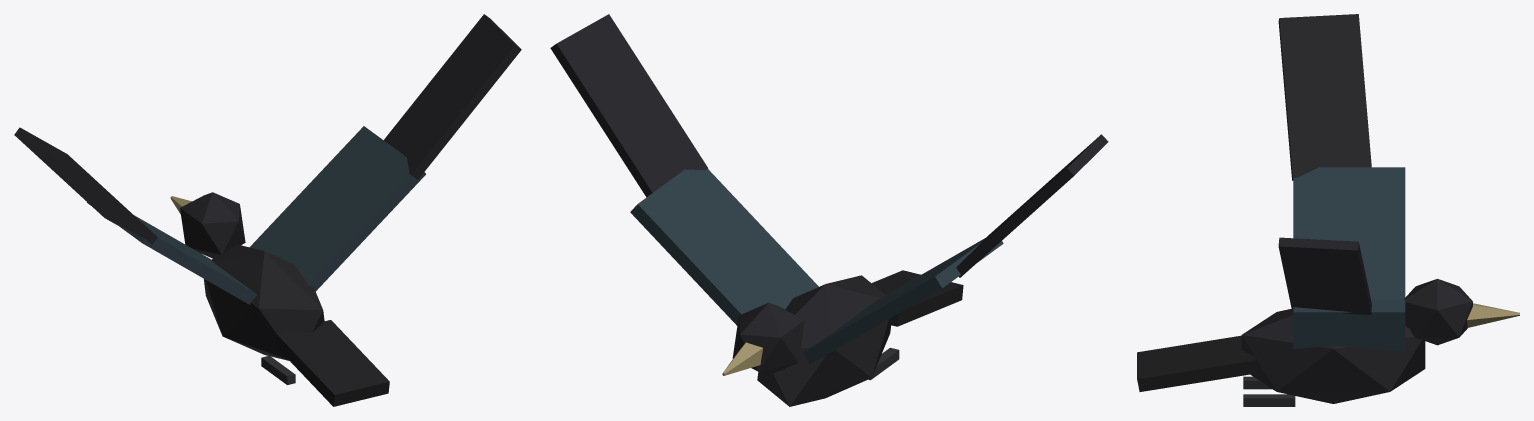
File: crow_fly_f0.glb
3 views of the same model, side by side, from view 1: azimuth 30°, elevation 25°; view 2: azimuth 150°, elevation 25°; view 3: azimuth 270°, elevation 25° (orthographic). The views are drawn at different scales.
Parts seen in each view (by area): view 1: crow_fly_f0; view 2: crow_fly_f0; view 3: crow_fly_f0.
Boxes of the visible parts, x1=… form: crow_fly_f0: x1=14, y1=14, x2=521, y2=406; crow_fly_f0: x1=550, y1=14, x2=1108, y2=406; crow_fly_f0: x1=1137, y1=14, x2=1519, y2=406.
Size of the model in its own units: 0.6907 by 0.3811 by 0.4784.
3 materials, 3 textured.
